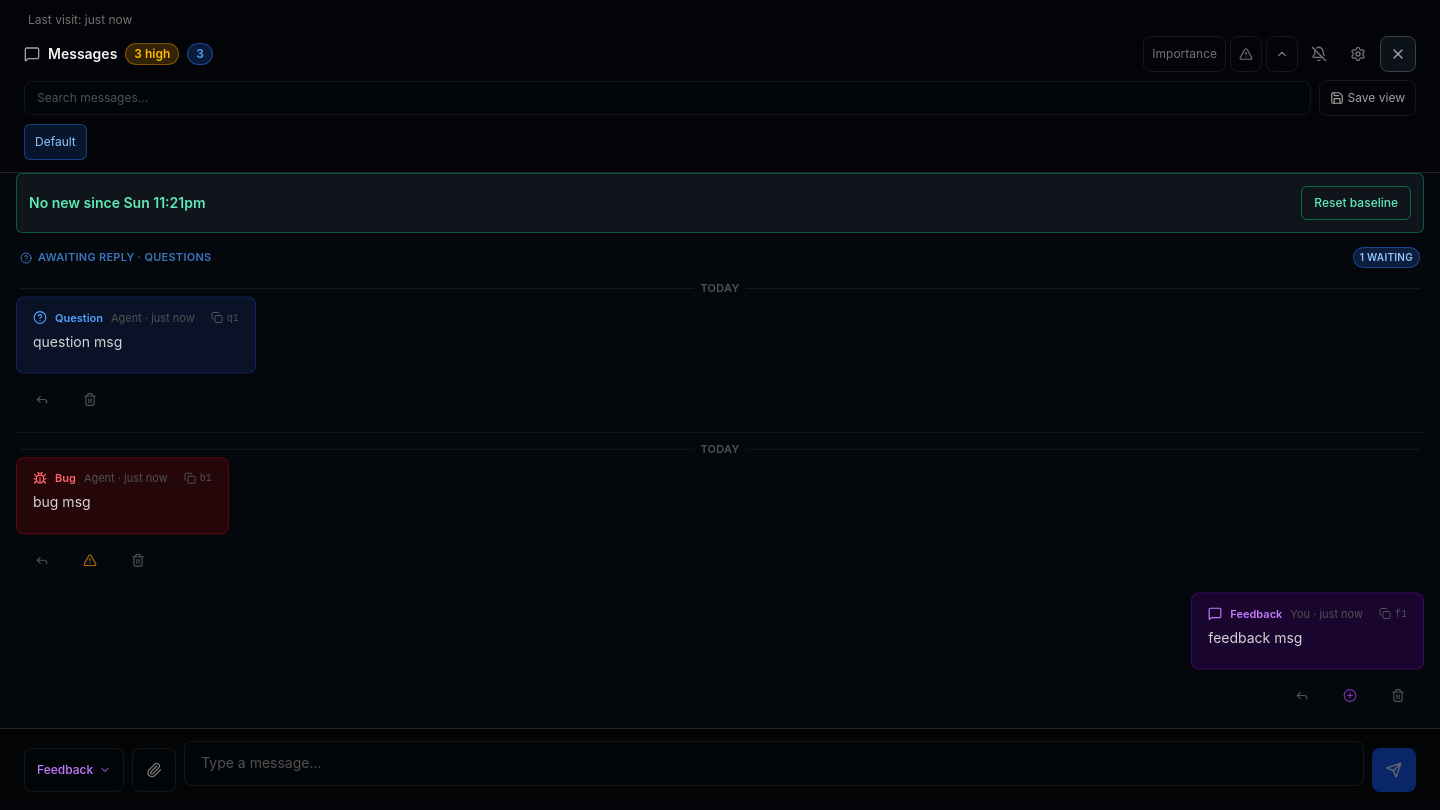
Test: MessagesPanel critical-only severity filter › critical-only filter shows QUESTION when active
Toggle critical-only
Click the button named "Critical only (BLOCKER, BUG, critical NOTEs)".
click(1246, 54)  # box [1230,36,1262,72]
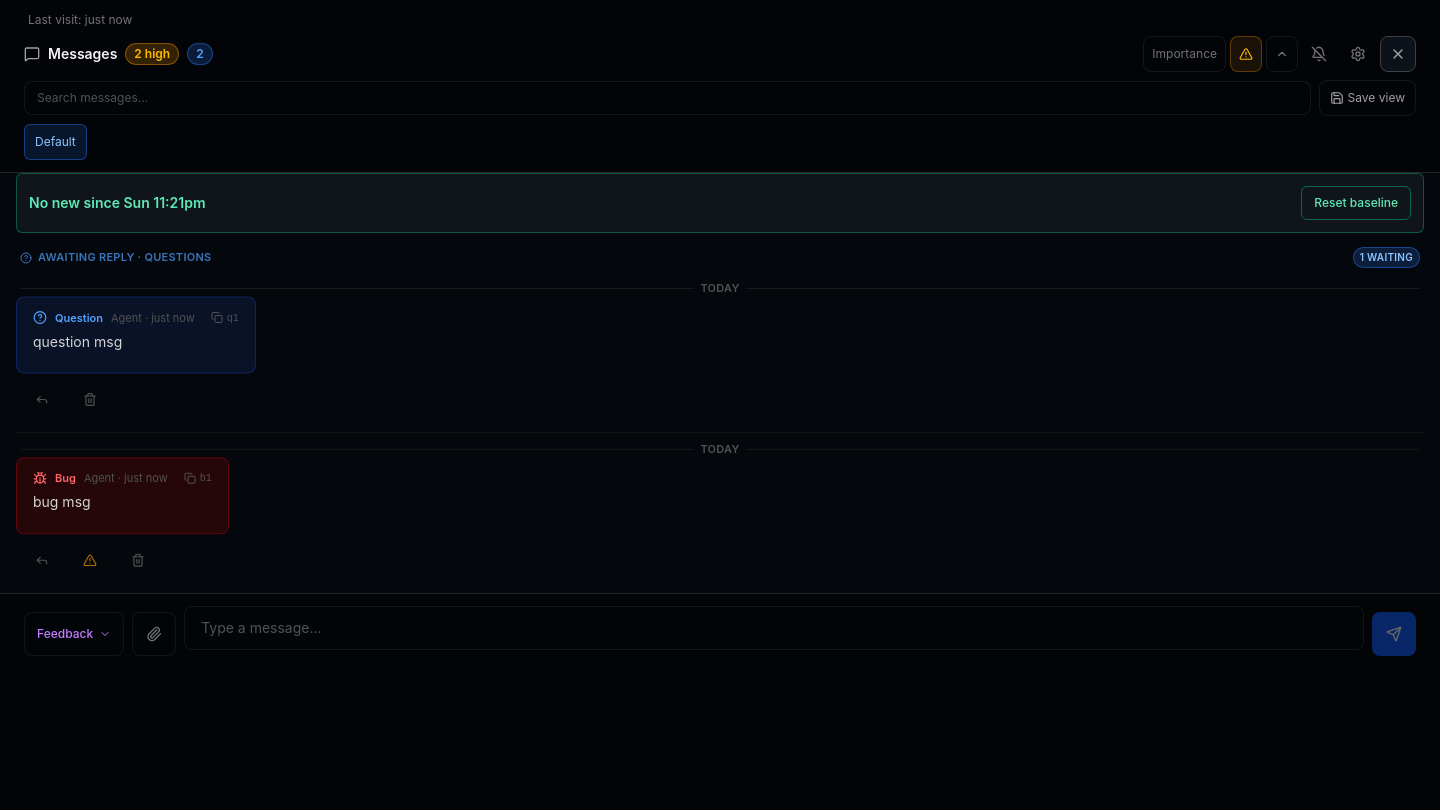
Expected: the text "bug msg" is shown, [33,493,91,510]
Expected: the text "feedback msg" is gone
